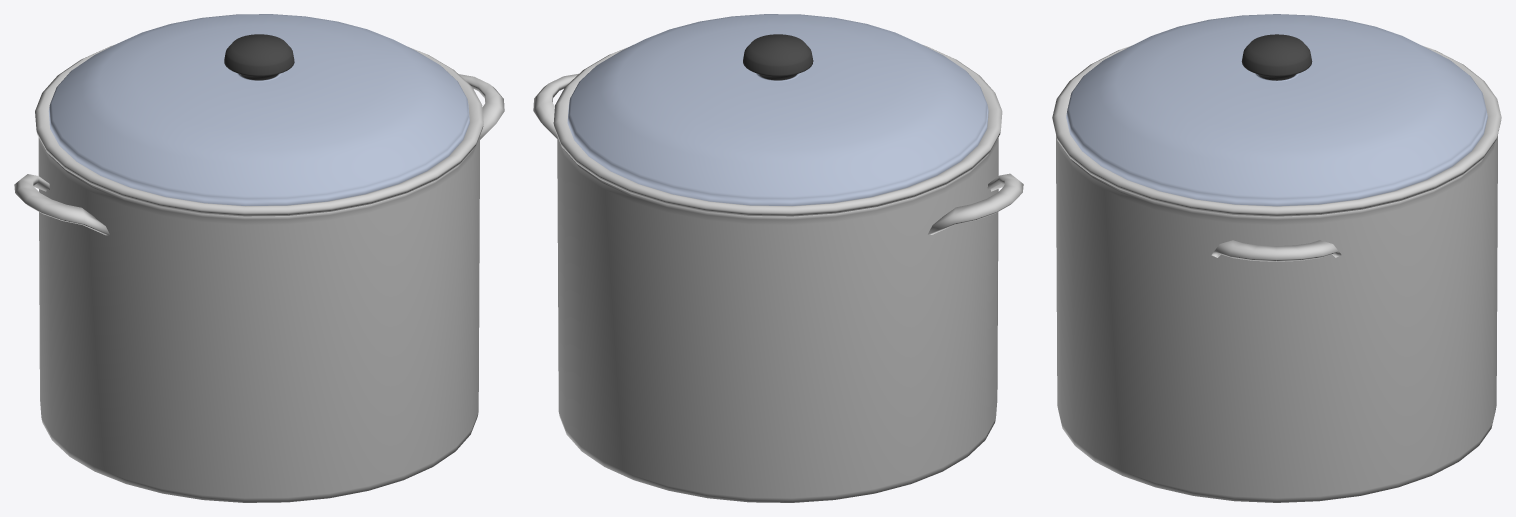
The model's file is Pot2.fbx.
3 views of the same model, side by side, from view 1: azimuth 30°, elevation 25°; view 2: azimuth 150°, elevation 25°; view 3: azimuth 270°, elevation 25° (orthographic).
Parts seen in each view (by area): view 1: Cylinder.005, Cylinder.006; view 2: Cylinder.005, Cylinder.006; view 3: Cylinder.005, Cylinder.006.
Part boxes in pixels (x1,y1,x2,y2): Cylinder.005: [14, 74, 504, 502]; Cylinder.006: [35, 14, 483, 216]; Cylinder.005: [533, 73, 1023, 502]; Cylinder.006: [553, 14, 1002, 216]; Cylinder.005: [1056, 135, 1497, 502]; Cylinder.006: [1052, 14, 1501, 216].
Size of the model in its own units: 236 by 179 by 196.
